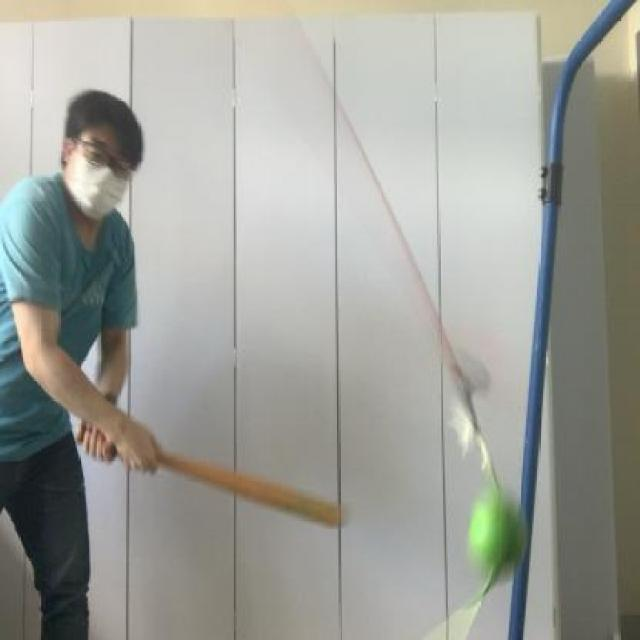baseball: (453, 482, 521, 589)
